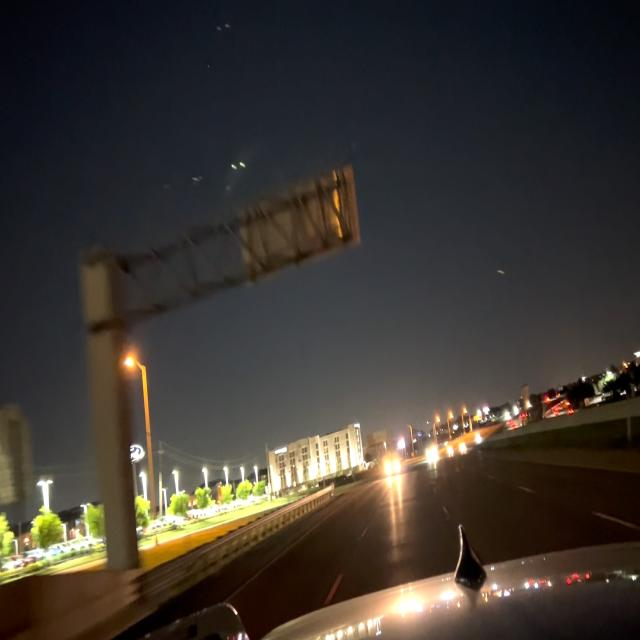back-of-sign: (235, 165, 362, 292)
